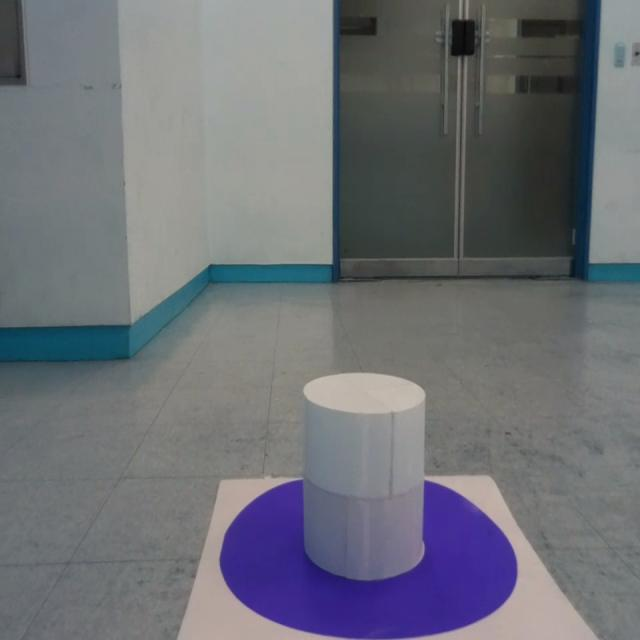cylinder: (301, 372, 428, 580)
